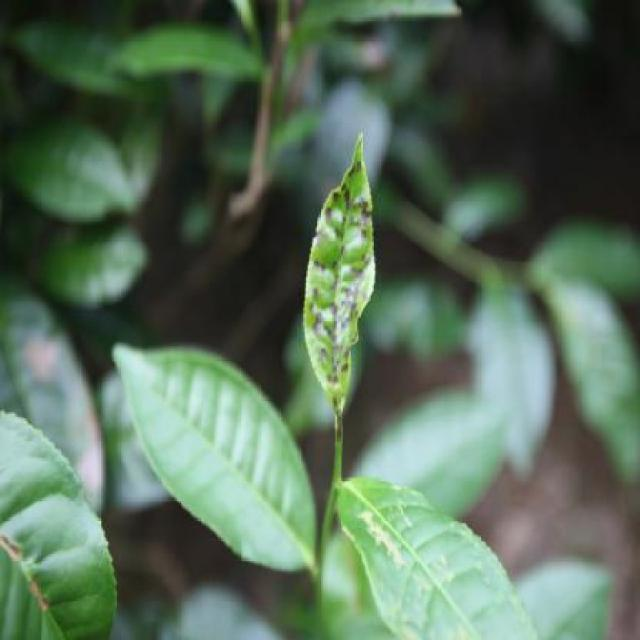Tea Mosquito bug infested leaf: (297, 110, 383, 428)
